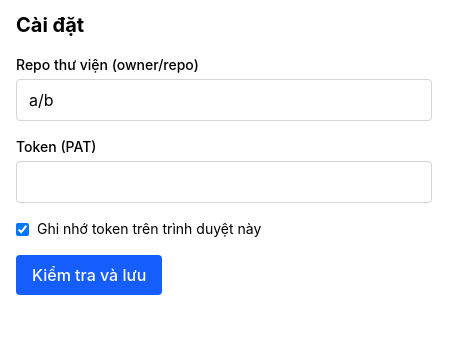
Setup › keeps saved settings on auth error
Replace the text in the field labelled "Repo thư viện (owner/repo)" with "me/lib" at point(224, 100), box [16,79,432,121]
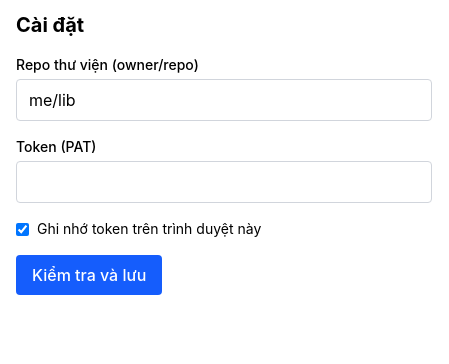
Type "tok" into the password field labelled "Token (PAT)" at point(224, 182), box [16,161,432,203]
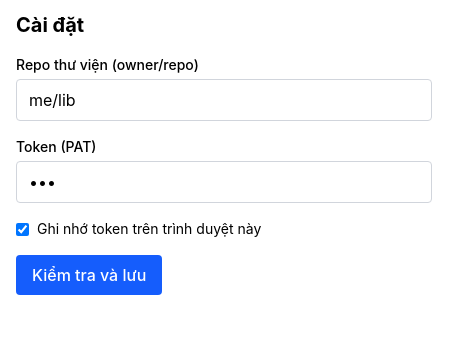
Click the button "Kiểm tra và lưu" at point(89, 275), box [16,255,162,295]
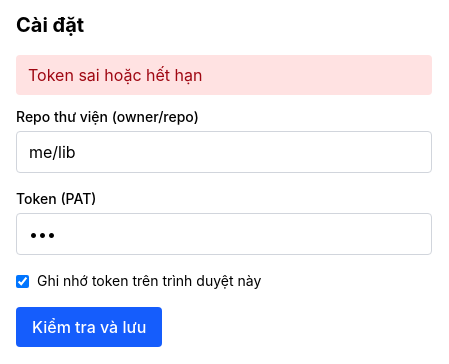
Now the text "Token sai hoặc hết hạn" is shown, box [16,55,432,95]
